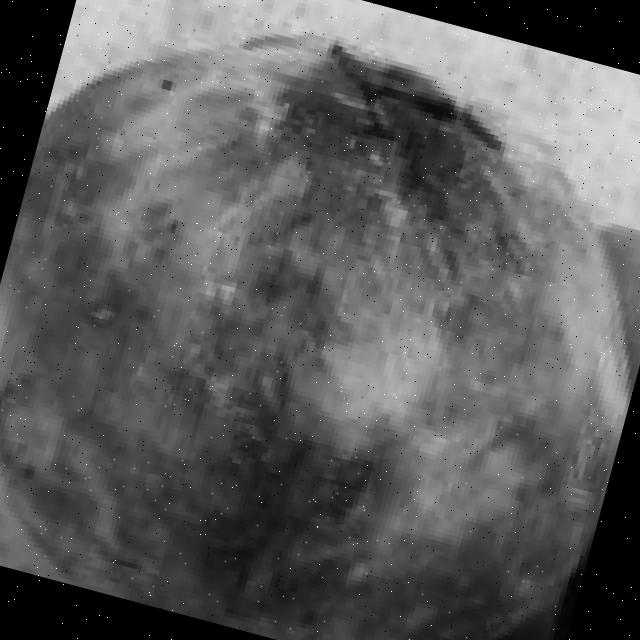Bad_Guava 0 day: (0, 37, 629, 640)
